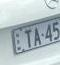4: (45, 23, 52, 41)
5: (52, 21, 60, 40)
A: (34, 27, 41, 46)
T: (24, 29, 33, 48)
